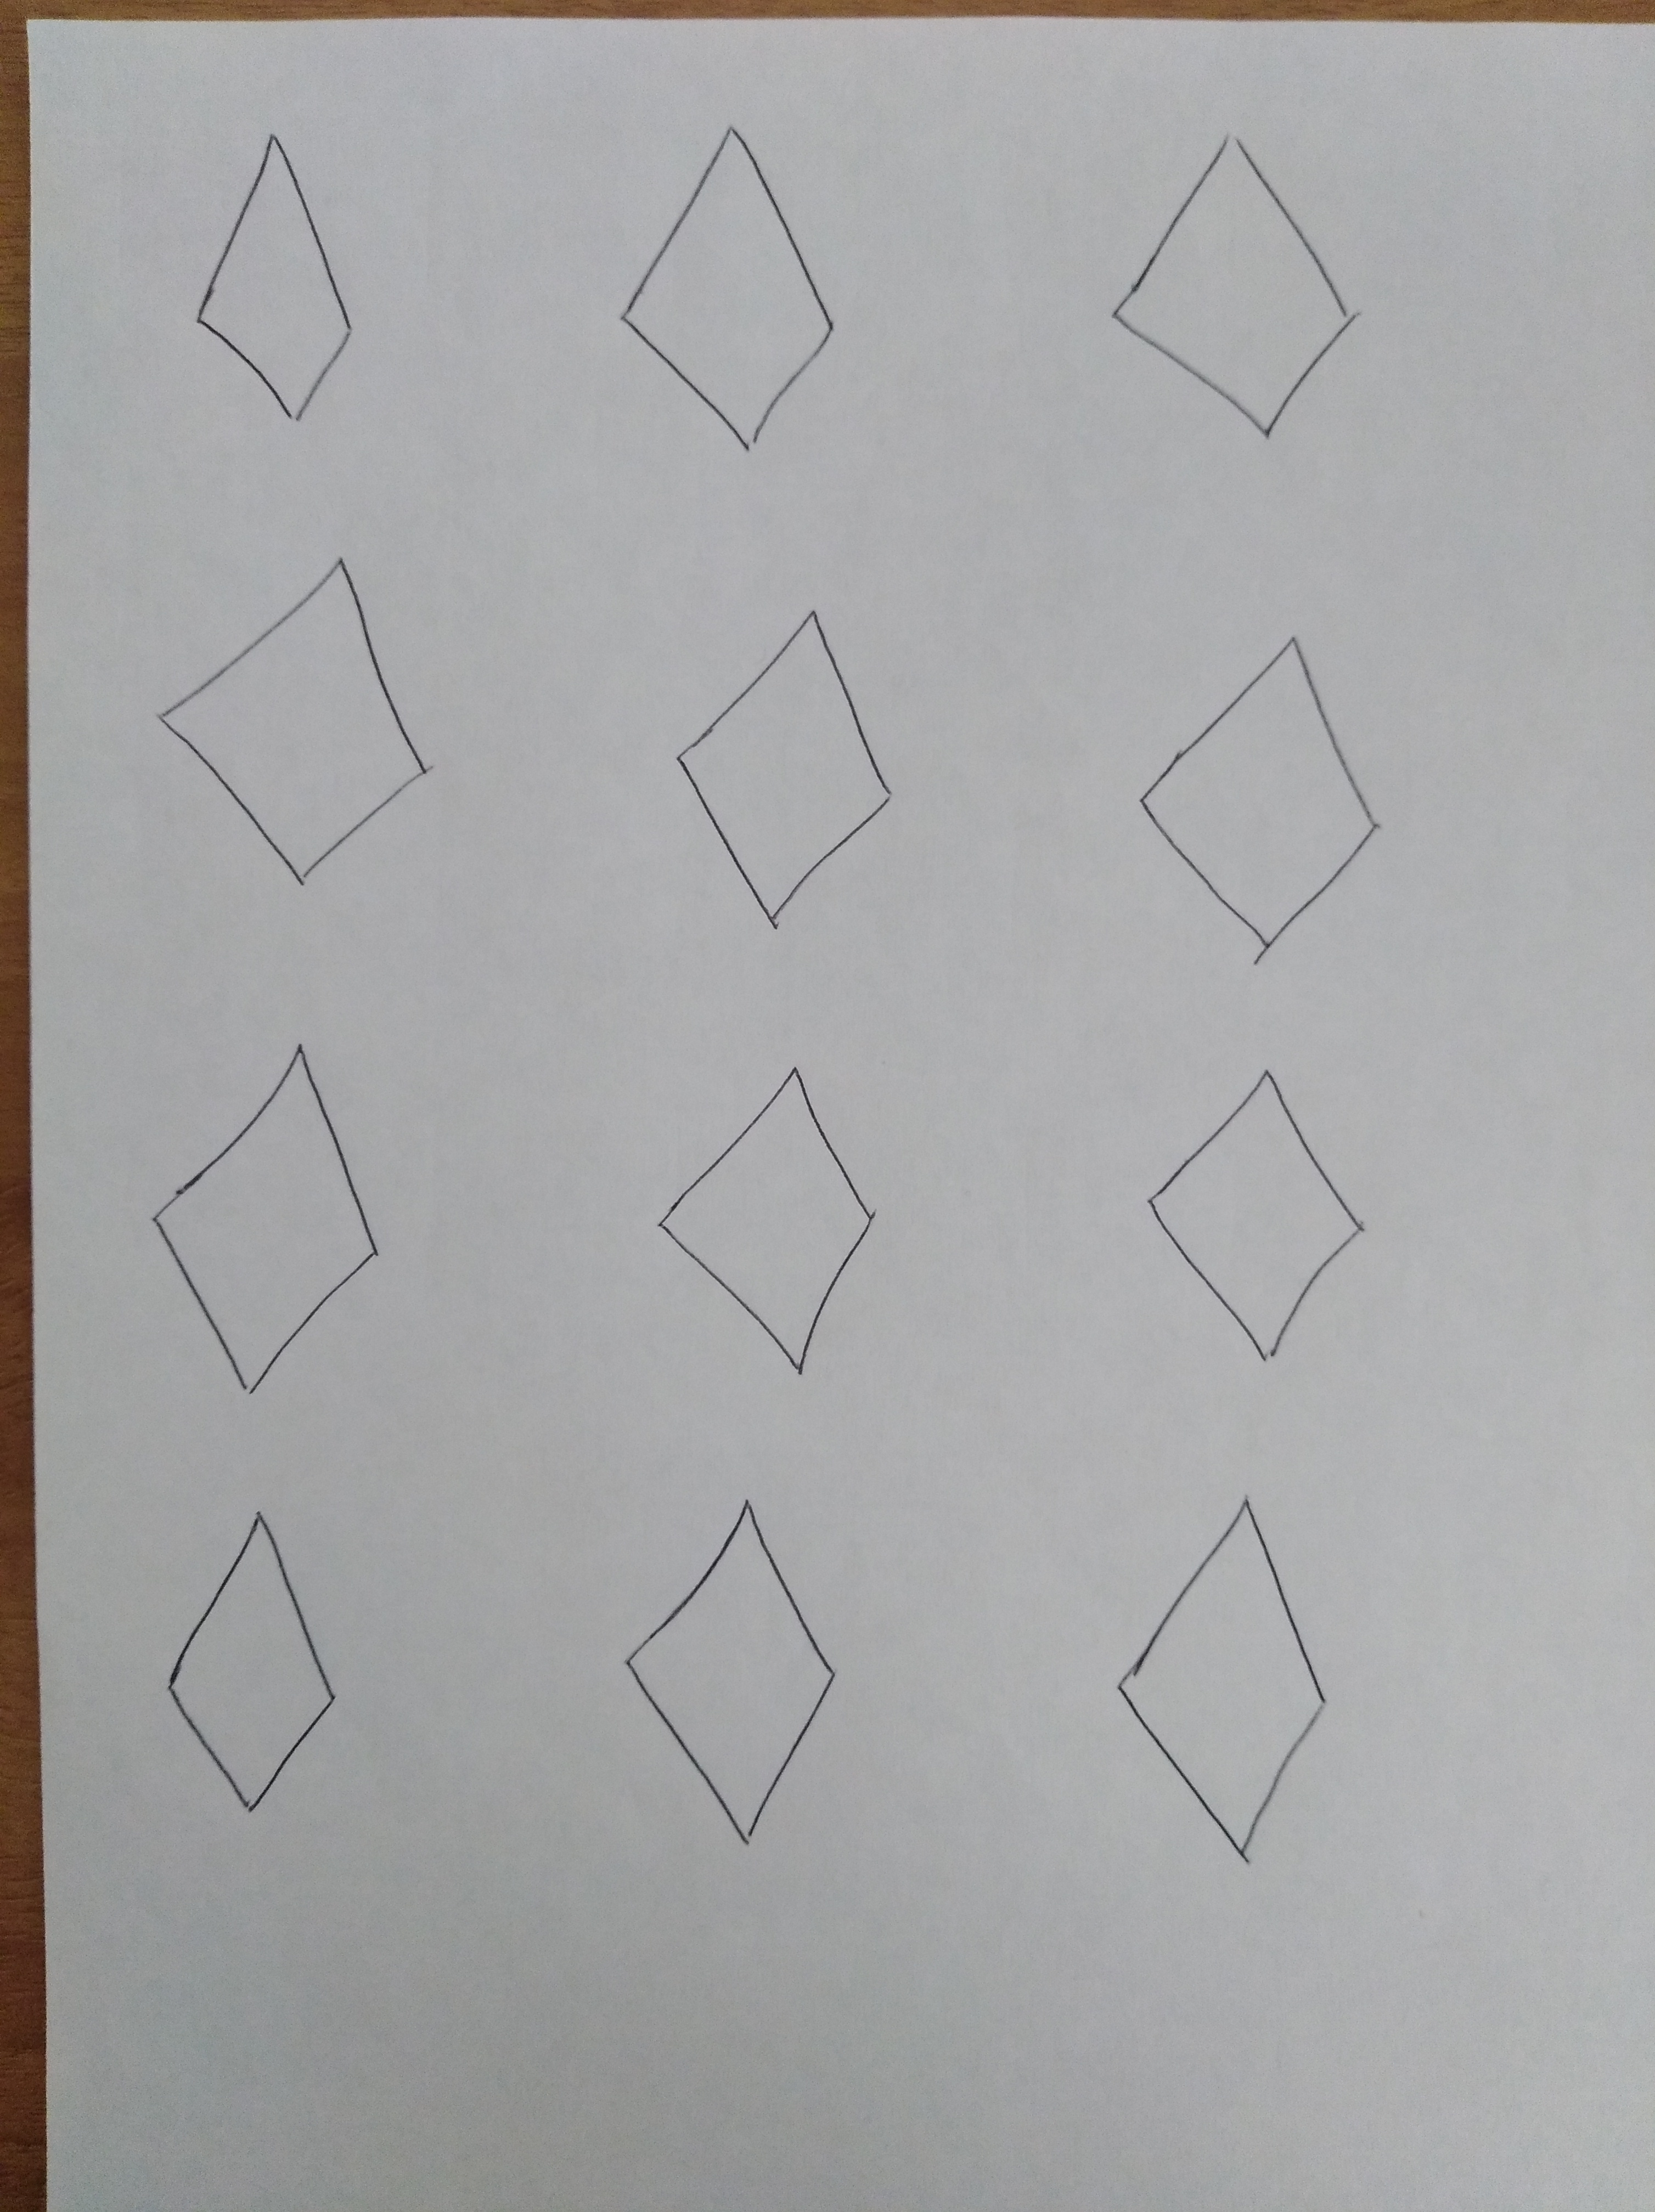decision: (129, 523, 480, 914), (1076, 1467, 1387, 1892), (1106, 603, 1417, 987), (612, 1027, 927, 1402), (106, 1022, 407, 1413), (1085, 92, 1398, 467), (603, 1467, 890, 1870), (118, 1486, 407, 1845), (641, 577, 920, 947), (596, 99, 864, 483), (1114, 1041, 1401, 1381), (150, 106, 417, 455)
